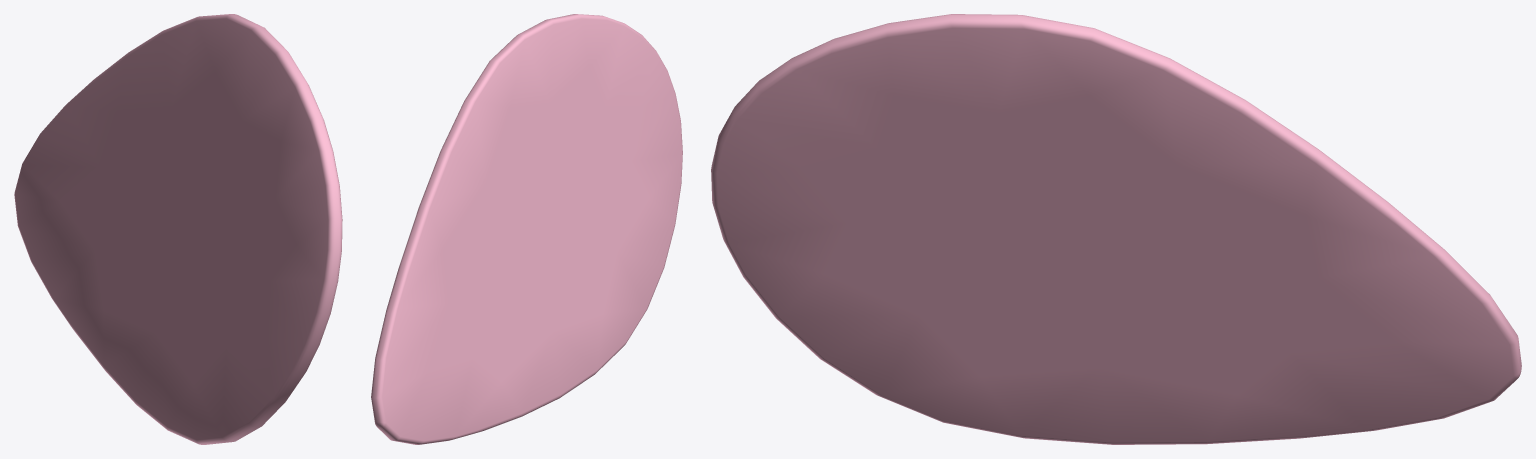
The model's file is pinkFlower_15.glb.
3 views of the same model, side by side, from view 1: azimuth 30°, elevation 25°; view 2: azimuth 150°, elevation 25°; view 3: azimuth 270°, elevation 25° (orthographic). The views are drawn at different scales.
Parts seen in each view (by area): view 1: Petal_02_Rounded.125; view 2: Petal_02_Rounded.125; view 3: Petal_02_Rounded.125.
Part boxes in pixels (x1=…): Petal_02_Rounded.125: x1=14, y1=14, x2=342, y2=444; Petal_02_Rounded.125: x1=371, y1=14, x2=682, y2=444; Petal_02_Rounded.125: x1=711, y1=14, x2=1521, y2=444.
Bounding box in the file's own units: 0.8629 × 3.1 × 4.82.
